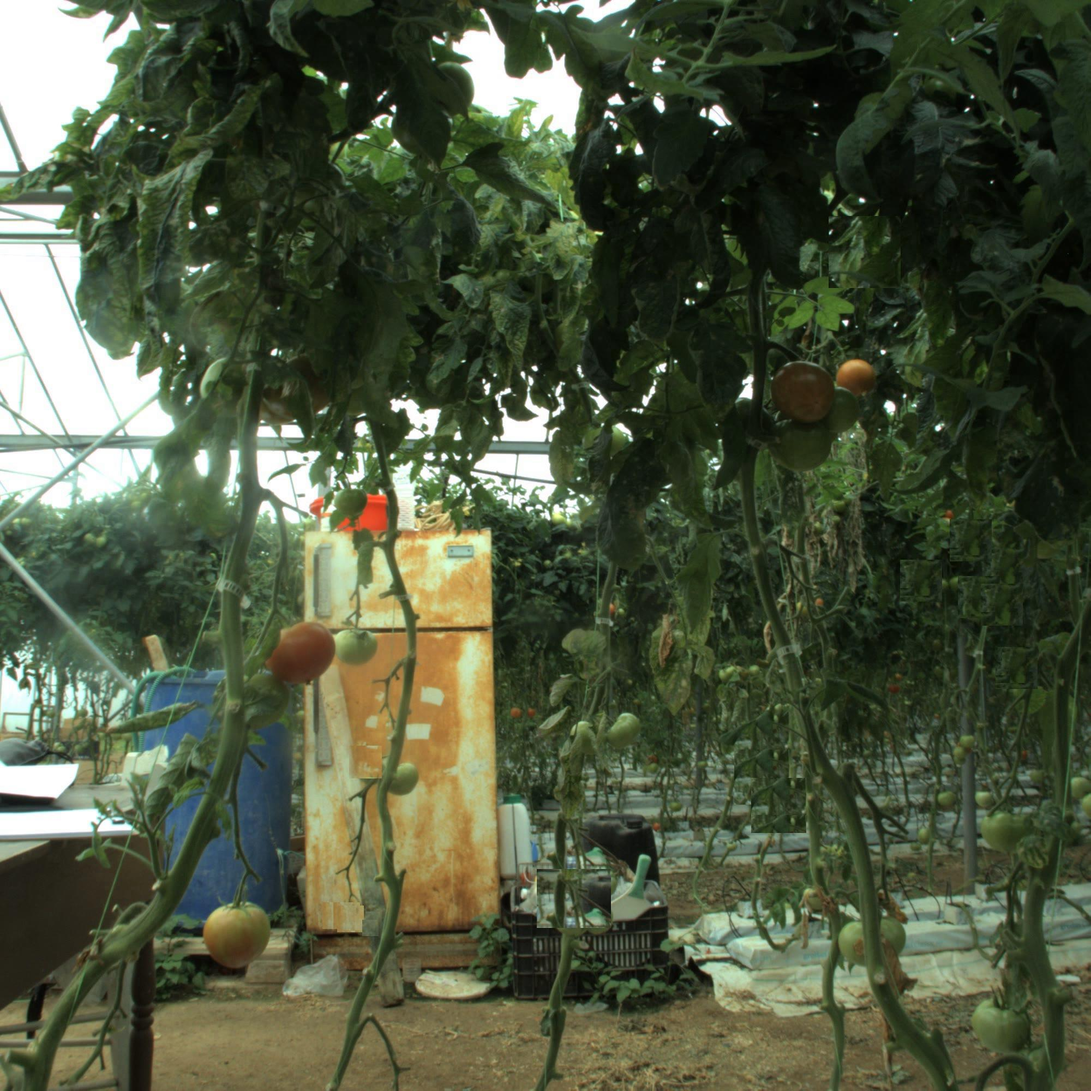fully-ripe: (266, 620, 331, 684)
semi-ripe: (203, 903, 267, 968), (773, 363, 833, 423), (837, 358, 879, 400)
unripe: (839, 907, 903, 971), (776, 418, 831, 472), (970, 997, 1024, 1052), (979, 802, 1029, 853), (603, 709, 648, 754), (334, 625, 379, 669), (386, 760, 421, 795)
